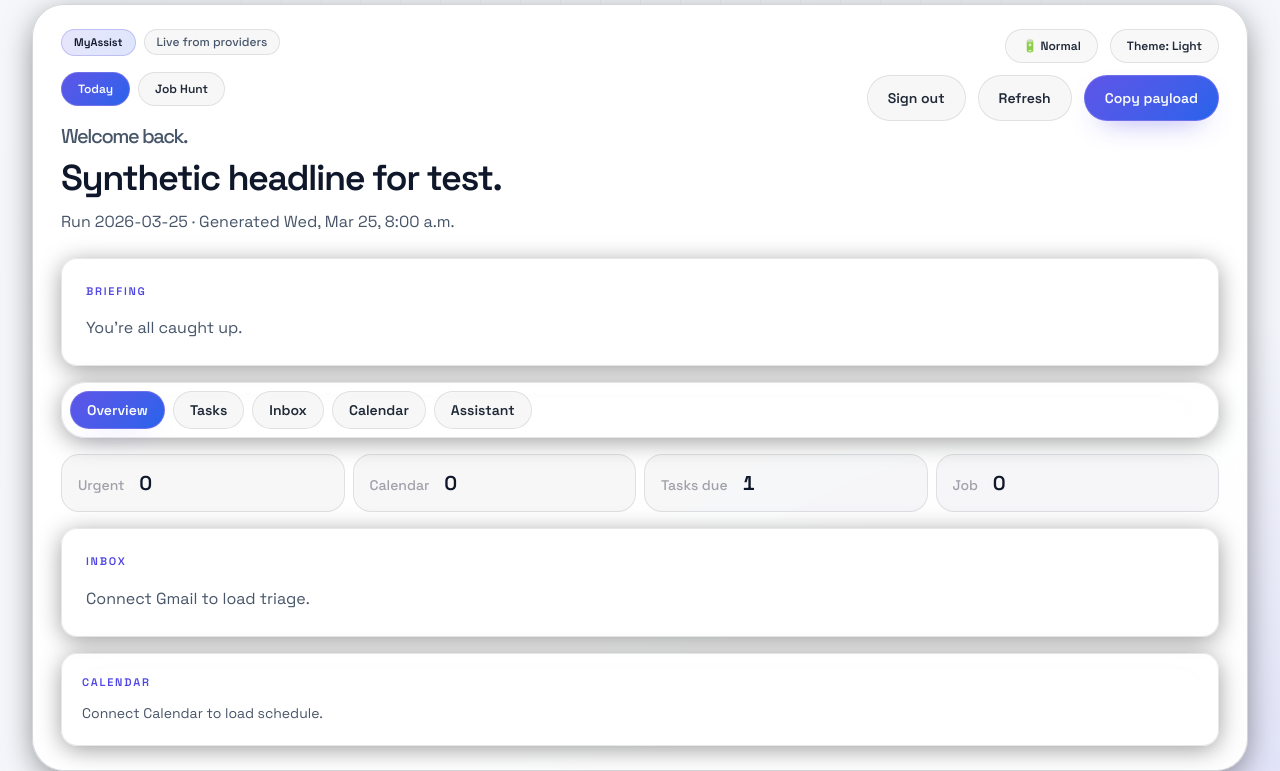
Test: Dashboard › shows integration notice when actions API returns dedupe metadata
Click the button "Inbox" at (288, 410), box left=252, top=391, right=324, bottom=429
(page scrolled)
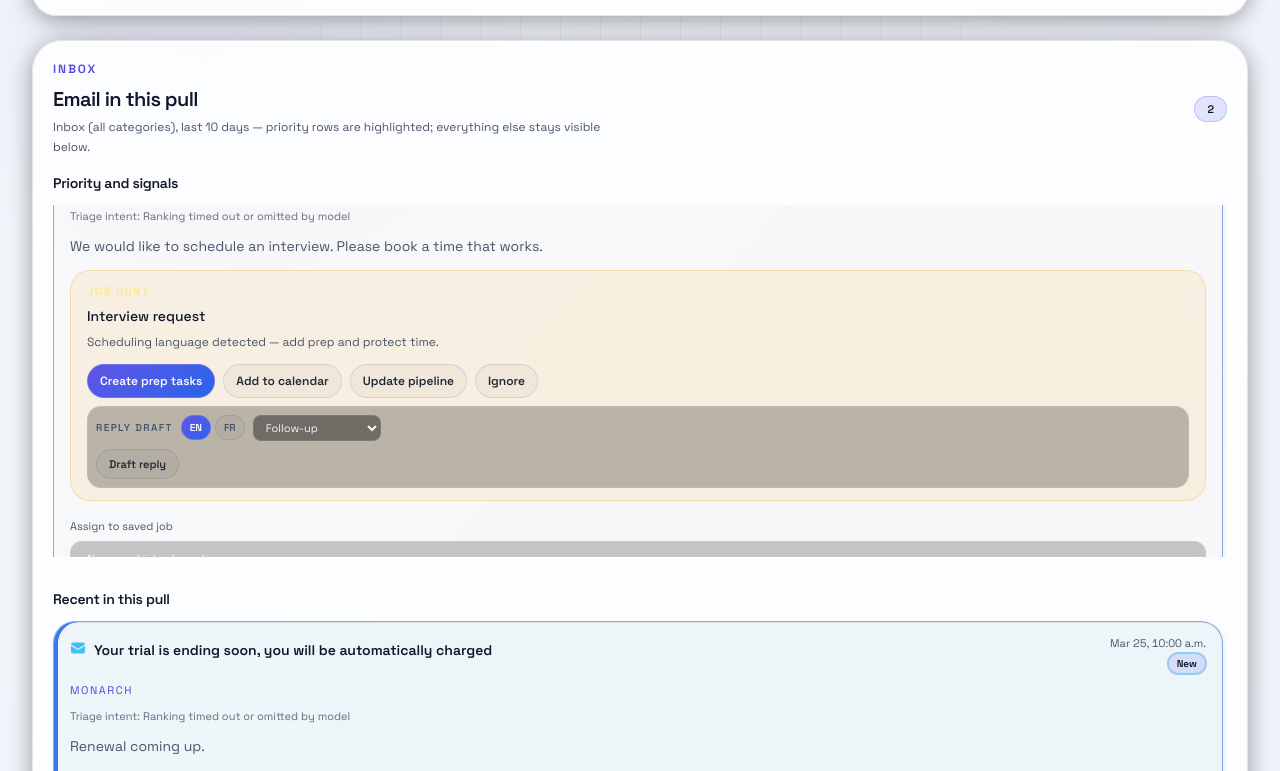
Click the button "Create prep tasks" at (151, 381), box left=87, top=364, right=215, bottom=398
(page scrolled)
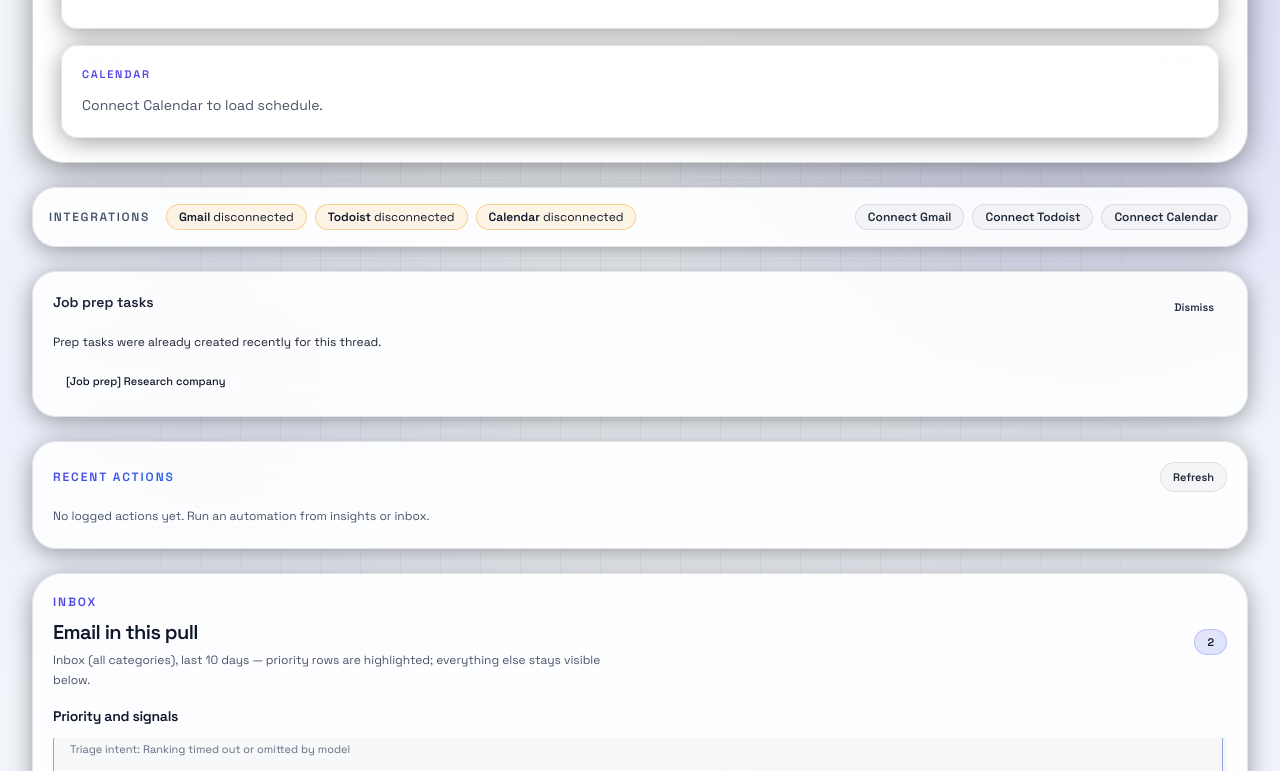
Check: the text "Prep tasks were already created recently for this thread." is shown, box left=53, top=334, right=381, bottom=350
Check: the text "[Job prep] Research company" is shown, box left=53, top=366, right=238, bottom=396
